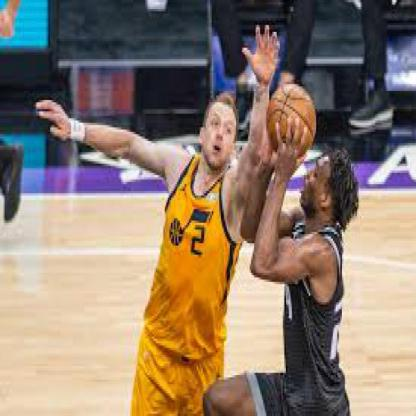basketball: (266, 84, 318, 157)
